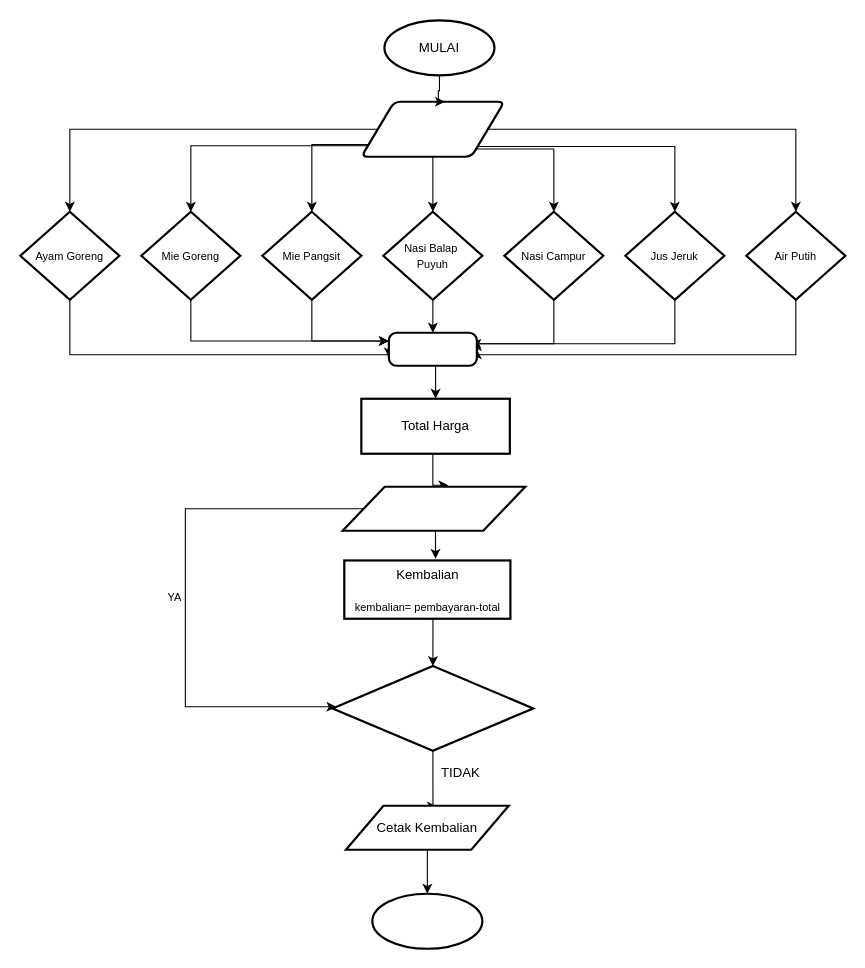
Image size: 865x968. Some labels were removed from this diagram. The shapes that lost their labels are listed below. From the top down, each one's centre as x and y in pixels, then its label:
At (432,128): "Daftar Makanan".
At (432,348): "Porsi".
At (433,508): "Masukkan Pembayaran".
At (432,707): "Pembayaran<Total".
At (427,920): "Stop".
